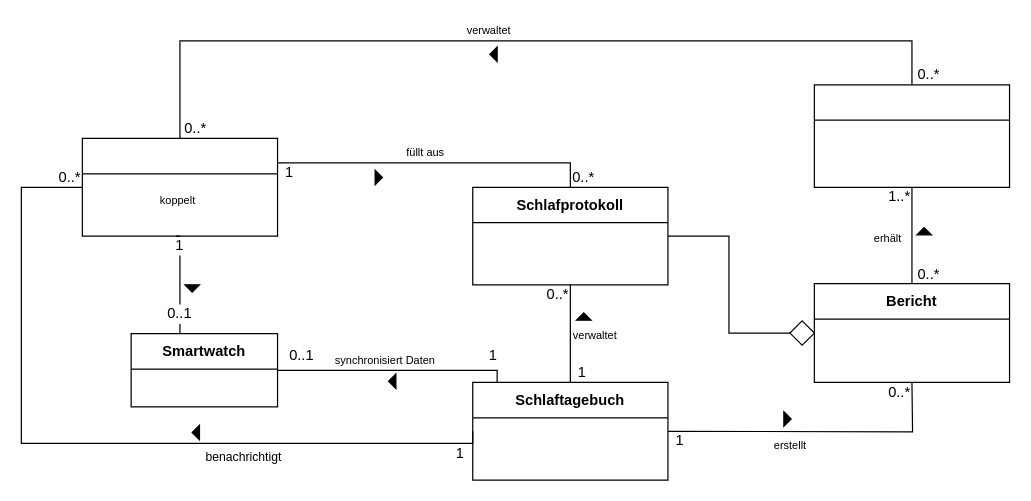
This 1031x501 diagram has some shape labels left out. Here are the shapes that lost their labels. From the top down, the box of each, then its label:
(813, 84, 1010, 187): Arzt:in
(81, 137, 278, 236): Patient:in
